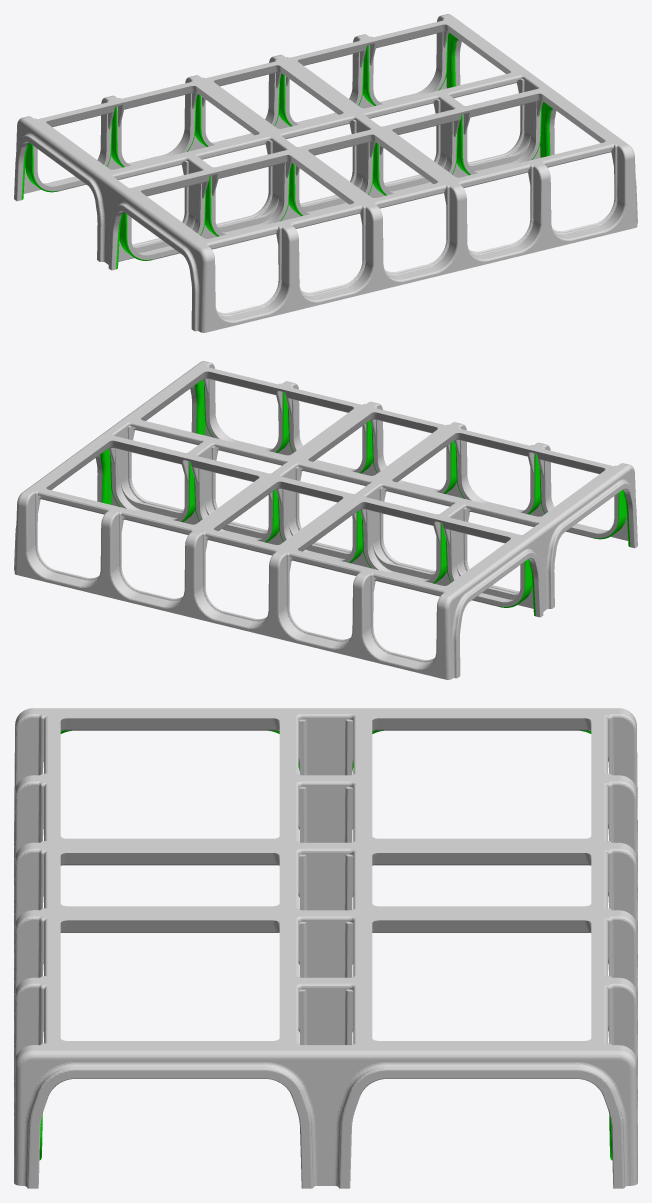
The model's file is tray.gltf.
The picture shows the model from 3 angles, top to bottom: view 1: azimuth 30°, elevation 25°; view 2: azimuth 150°, elevation 25°; view 3: azimuth 270°, elevation 25°; orthographic projection. The views are drawn at different scales.
Parts seen in each view (by area): view 1: Node2, Node3, Node1, Node4, Node5; view 2: Node2, Node3, Node1, Node4, Node5; view 3: Node2, Node3, Node1, Node4.
Part boxes in pixels (box(x1,y1,x2,y2)): Node2: box(14, 15, 626, 331); Node3: box(142, 14, 634, 332); Node1: box(108, 87, 637, 332); Node4: box(133, 105, 637, 273); Node5: box(21, 32, 552, 269); Node2: box(17, 362, 635, 679); Node3: box(14, 362, 628, 620); Node1: box(127, 361, 637, 608); Node4: box(121, 364, 518, 599); Node5: box(99, 379, 630, 616); Node2: box(33, 708, 637, 1164); Node3: box(14, 709, 637, 1188); Node1: box(14, 708, 317, 1188); Node4: box(14, 907, 307, 1188).
Bounding box in the file's own units: 117 × 20 × 86.52.
